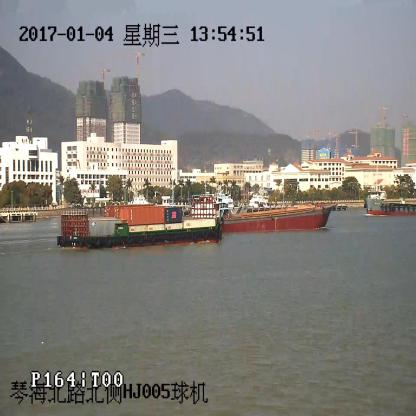Container Ship: (57, 196, 224, 250)
